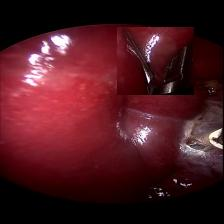Grasper: (117, 26, 194, 94)
Hook: (178, 124, 224, 158)
